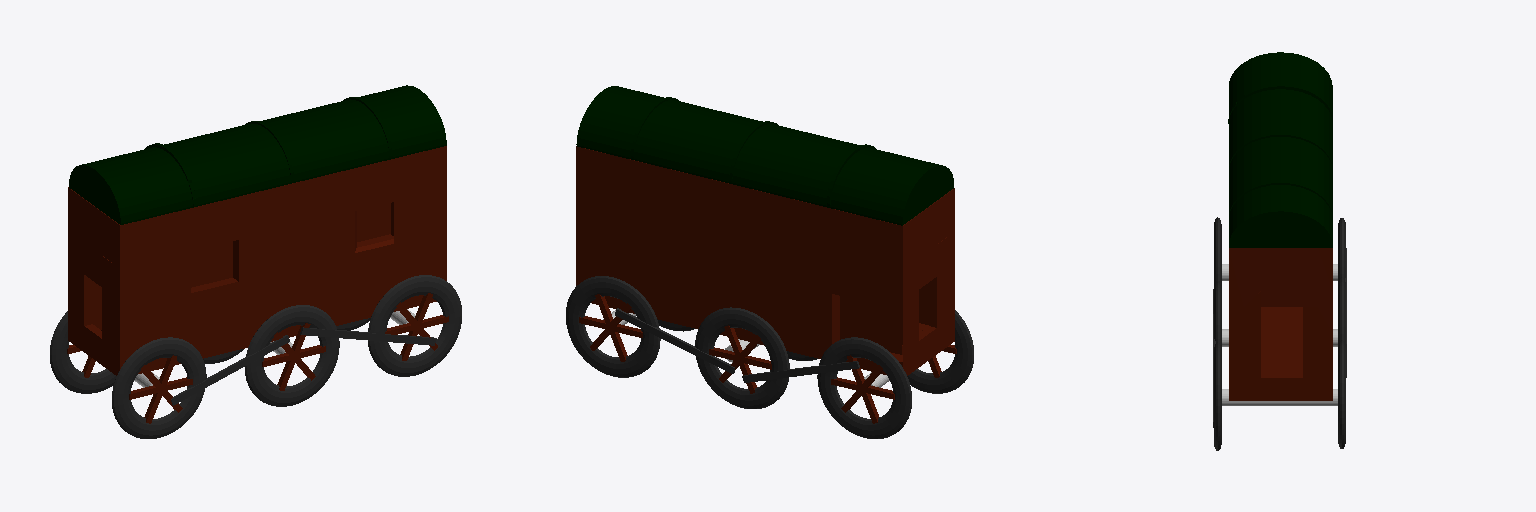
File: vagone.obj
The picture shows the model from 3 angles: view 1: azimuth 30°, elevation 25°; view 2: azimuth 150°, elevation 25°; view 3: azimuth 270°, elevation 25°; orthographic projection.
Parts seen in each view (by area): view 1: Cube, Cylinder_Cylinder.005, Torus.004, Torus.002, Torus.003, Torus.005, Cube.028_Cube.032, Cube.027_Cube.031, Cube.009_Cube.010; view 2: Cube, Cylinder_Cylinder.005, Torus.007, Torus.005, Torus.006, Torus.002, Cube.002_Cube.029, Cube.003_Cube.030; view 3: Cylinder_Cylinder.005, Cube, Torus.007, Torus.004, Cylinder.002.
Boxes of the visible parts, box(x1,y1,x2,y2) form: Cube: box(68, 146, 446, 375); Cylinder_Cylinder.005: box(69, 85, 446, 224); Torus.004: box(368, 275, 461, 376); Torus.002: box(112, 337, 206, 438); Torus.003: box(245, 305, 339, 406); Torus.005: box(50, 311, 116, 393); Cube.028_Cube.032: box(300, 327, 436, 345); Cube.027_Cube.031: box(171, 335, 289, 405); Cube.009_Cube.010: box(144, 355, 176, 423); Cube: box(576, 146, 954, 375); Cylinder_Cylinder.005: box(576, 86, 953, 225); Torus.007: box(566, 276, 660, 377); Torus.005: box(817, 337, 911, 438); Torus.006: box(695, 307, 789, 408); Torus.002: box(907, 310, 973, 393); Cube.002_Cube.029: box(615, 308, 734, 373); Cube.003_Cube.030: box(742, 361, 859, 382); Cylinder_Cylinder.005: box(1228, 52, 1332, 247); Cube: box(1229, 248, 1332, 400); Torus.007: box(1338, 340, 1345, 448); Torus.004: box(1214, 342, 1221, 450); Cylinder.002: box(1222, 389, 1337, 405).
Bounding box in the file's own units: 9.23 × 6.44 × 3.05.